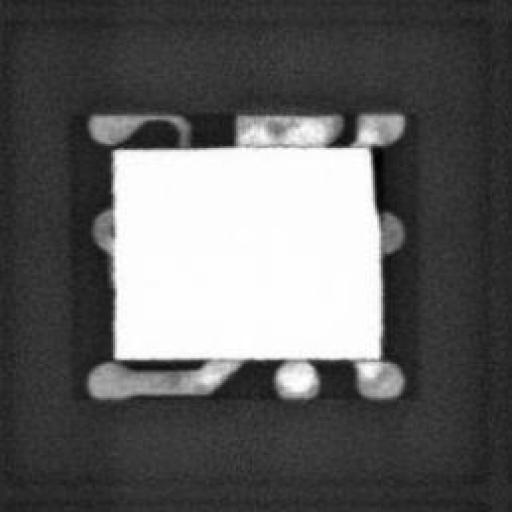DIE_BROKEN: (365, 140, 385, 216)
